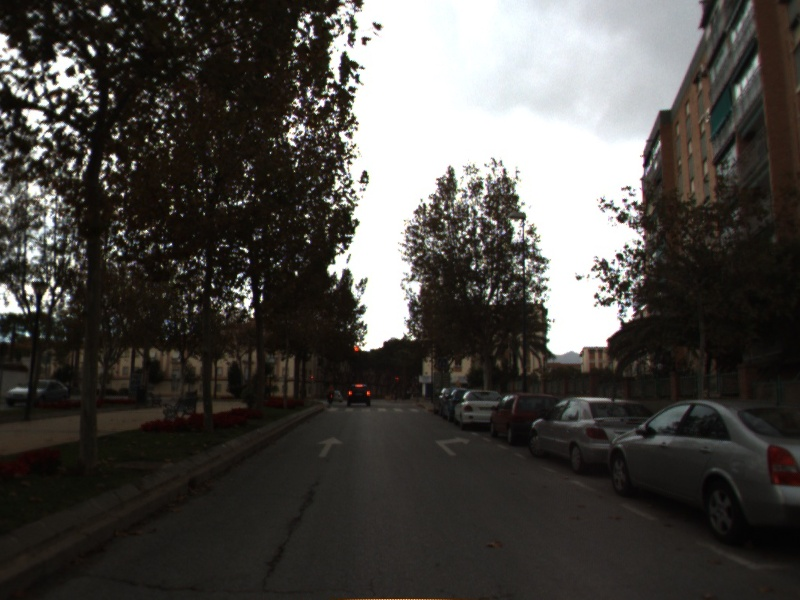RIGHT: (432, 433, 473, 459)
STRAIGHT: (315, 434, 346, 459)
